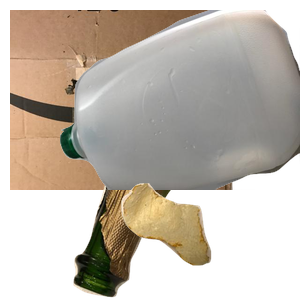cardboard: (10, 10, 245, 190)
glass: (71, 152, 260, 300)
plastic: (60, 10, 300, 190)
trash: (119, 181, 300, 300)
